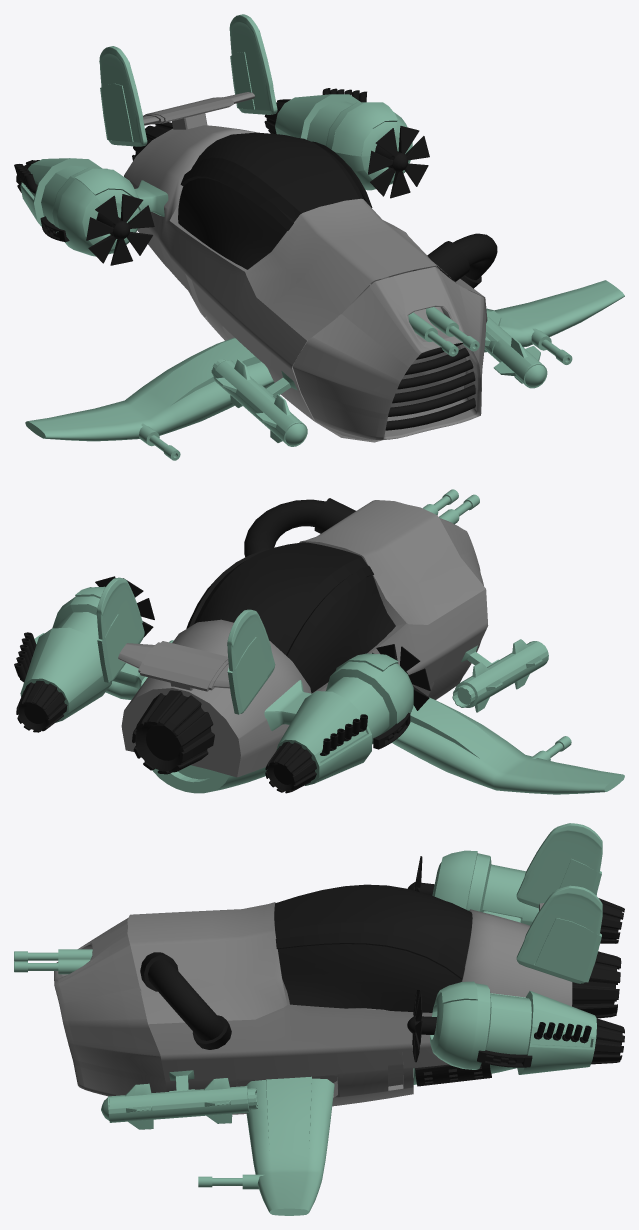
File: Aircraft_AnimationReady.fbx
The picture shows the model from 3 angles, top to bottom: view 1: azimuth 30°, elevation 25°; view 2: azimuth 150°, elevation 25°; view 3: azimuth 270°, elevation 25°; orthographic projection.
Visible parts, largest first — view 1: Aircraft_MainBody, Aircraft_Front, Aircraft_Hood, Aircraft_Wings, Aircraft_ Engines, Aircraft_RearWings, Aircraft_Missiles, Aircraft_FrontGrill, Aircraft_EngineFans, Object001, Aircraft_Shooters, Aircraft_Tube (+3 smaller); view 2: Aircraft_MainBody, Aircraft_ Engines, Aircraft_Hood, Aircraft_Wings, Aircraft_EngineBurners, Aircraft_RearWings, Aircraft_RearWingBase, Aircraft_Missiles, Aircraft_Tube, Aircraft_Bottom, Aircraft_EngineExahusts, Aircraft_Shooters (+4 smaller); view 3: Aircraft_MainBody, Aircraft_Hood, Aircraft_ Engines, Aircraft_Front, Aircraft_RearWings, Aircraft_Wings, Aircraft_Missiles, Aircraft_EngineBurners, Aircraft_Tube, Aircraft_Shooters, Aircraft_BottomGrill, Object001 (+2 smaller).
Part boxes in pixels (x1,y1,x2,y2): Aircraft_MainBody: (124, 125, 487, 442); Aircraft_Front: (293, 267, 486, 440); Aircraft_Hood: (178, 132, 372, 269); Aircraft_Wings: (25, 280, 624, 441); Aircraft_ Engines: (20, 94, 412, 256); Aircraft_RearWings: (99, 14, 277, 146); Aircraft_Missiles: (211, 310, 547, 446); Aircraft_FrontGrill: (385, 343, 475, 430); Aircraft_EngineFans: (86, 194, 154, 265); Object001: (368, 126, 429, 198); Aircraft_Shooters: (139, 307, 572, 460); Aircraft_Tube: (427, 233, 497, 288); Aircraft_MainBody: (121, 500, 488, 777); Aircraft_ Engines: (20, 586, 413, 785); Aircraft_Hood: (186, 542, 395, 693); Aircraft_Wings: (34, 633, 624, 794); Aircraft_EngineBurners: (16, 680, 316, 793); Aircraft_RearWings: (96, 577, 275, 714); Aircraft_RearWingBase: (118, 641, 229, 691); Aircraft_Missiles: (452, 639, 548, 712); Aircraft_Tube: (244, 498, 355, 556); Aircraft_Bottom: (152, 765, 267, 793); Aircraft_EngineExahusts: (14, 632, 367, 755); Aircraft_Shooters: (169, 489, 571, 760); Aircraft_MainBody: (127, 902, 572, 1114); Aircraft_Hood: (274, 884, 472, 1012); Aircraft_ Engines: (430, 850, 596, 1074); Aircraft_Front: (54, 917, 166, 1096); Aircraft_RearWings: (516, 823, 602, 983); Aircraft_Wings: (246, 1076, 334, 1215); Aircraft_Missiles: (101, 1070, 257, 1129); Aircraft_EngineBurners: (572, 898, 624, 1064); Aircraft_Tube: (140, 952, 231, 1049); Aircraft_Shooters: (14, 949, 264, 1189); Aircraft_BottomGrill: (415, 1063, 491, 1086); Object001: (407, 990, 436, 1062).
Bounding box in the file's own units: 291 × 122 × 269.
